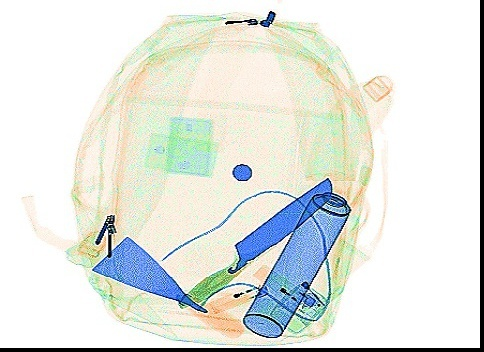knife: (178, 176, 333, 310)
lighter: (253, 263, 316, 310), (207, 280, 268, 314)
pressure: (242, 173, 367, 339)
